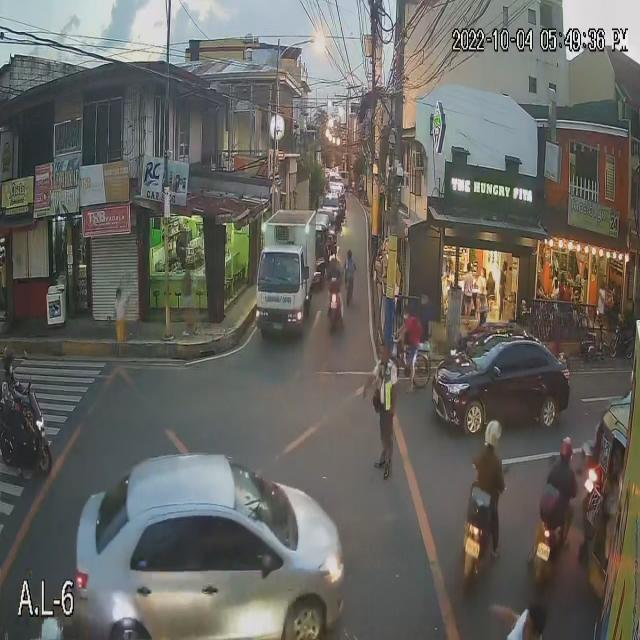helmet: (482, 422, 502, 451), (2, 344, 16, 381), (558, 438, 575, 464)
motorcycle: (531, 478, 578, 586), (2, 389, 52, 477), (462, 480, 498, 581), (327, 287, 344, 331)
rider: (471, 421, 505, 541), (541, 437, 578, 538), (0, 349, 25, 452), (325, 244, 340, 299)
